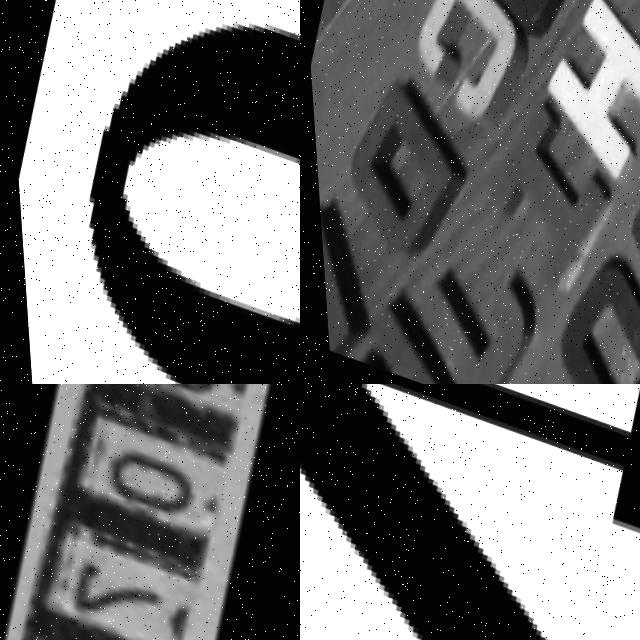0: (89, 424, 197, 512)
7: (53, 540, 169, 636)
9: (18, 0, 300, 384)
B: (448, 0, 606, 47)
C: (392, 0, 538, 133)
D: (320, 68, 484, 276)
H: (520, 0, 640, 187)
I: (461, 86, 622, 293)
J: (394, 248, 537, 384)
N: (300, 384, 640, 640), (597, 128, 640, 364)
O: (527, 248, 640, 384)
